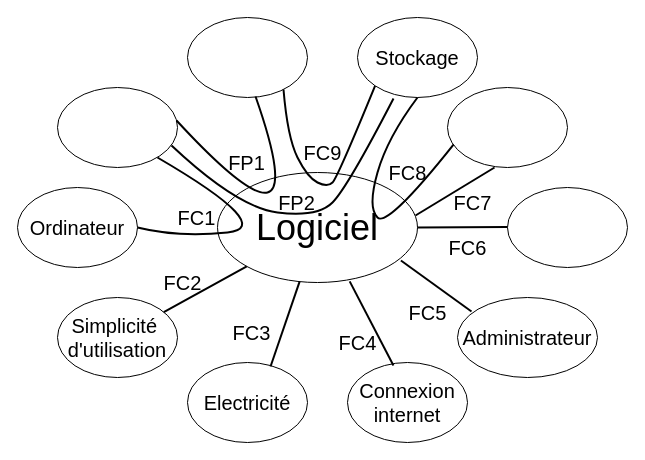
This 645x460 diagram has some shape labels left out. Here are the shapes that lost their labels. From the top down, the centre of each, then its label:
the point at 247,57: QCM
the point at 117,127: Utilisateur
the point at 507,127: Serveur
the point at 567,227: Sécurisé
